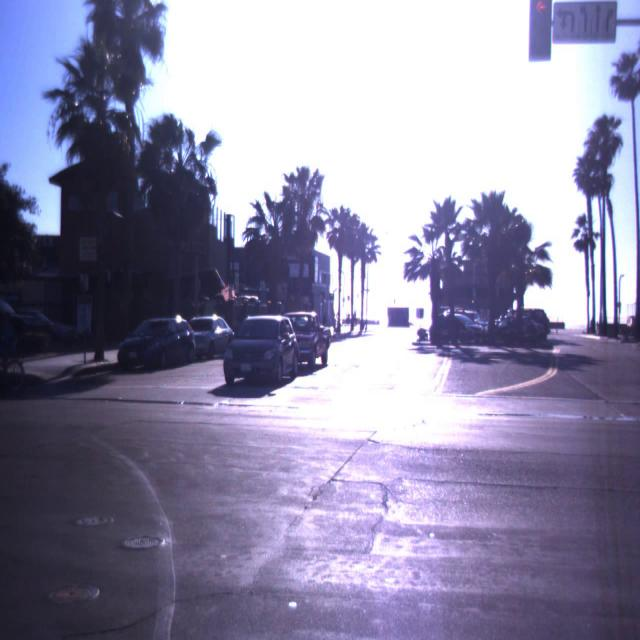kirmizi: (529, 0, 551, 61)
